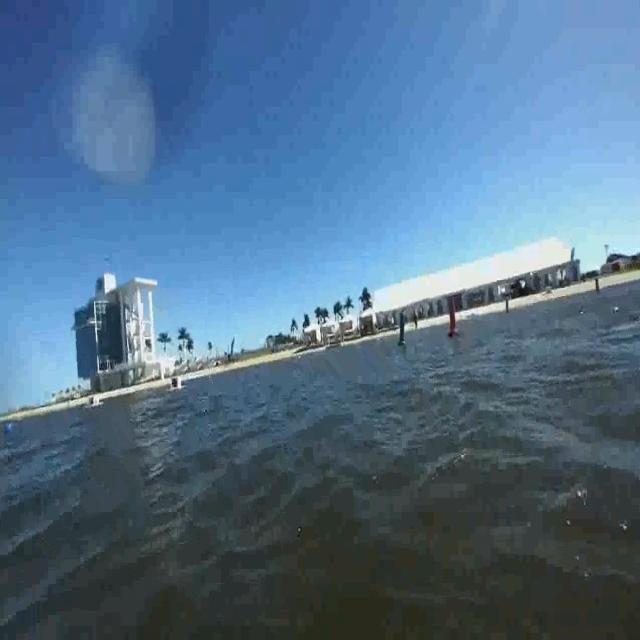green-column-buoy: (396, 311, 407, 346)
red-column-buoy: (448, 295, 461, 337)
